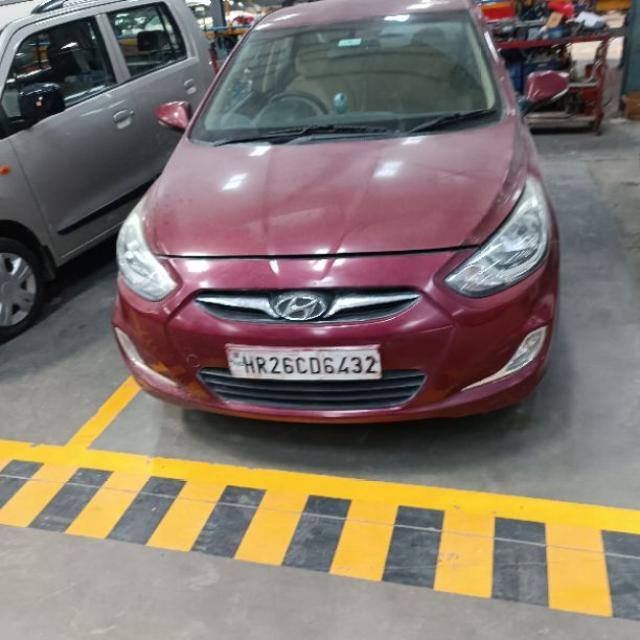license_plate: (224, 343, 383, 381)
